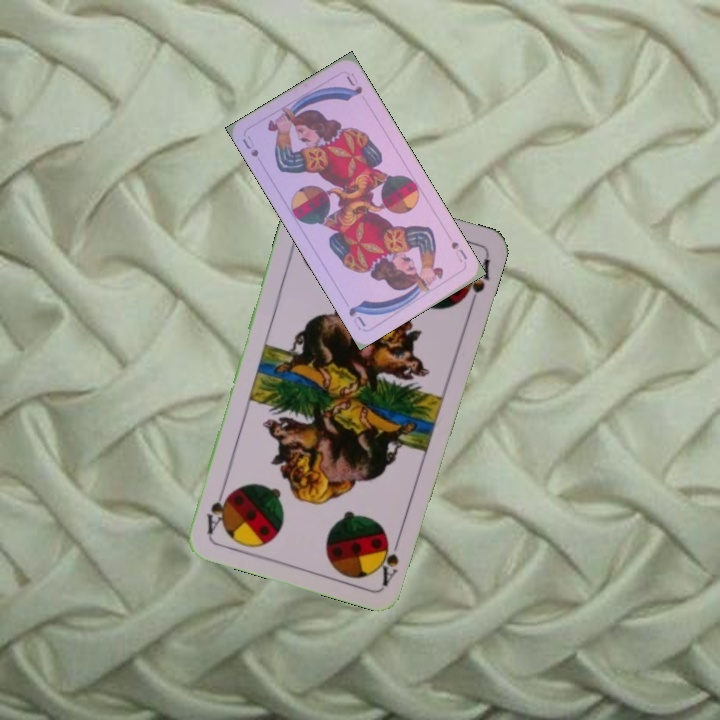SA: (377, 529, 405, 587)
SU: (238, 131, 261, 160), (447, 237, 470, 265)
